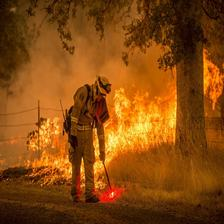fire: (106, 62, 220, 160), (21, 115, 69, 188)
